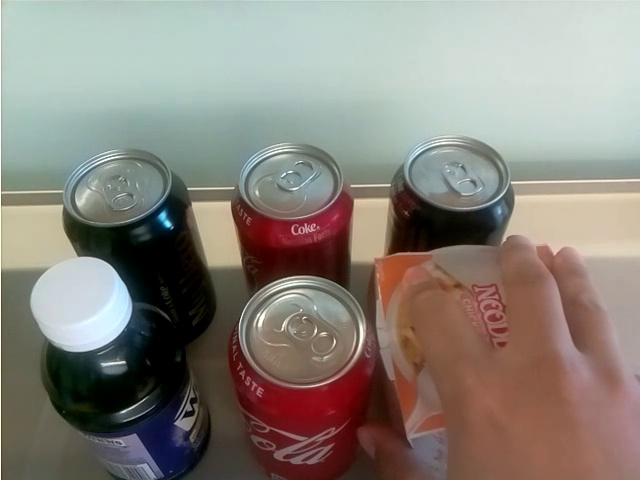cocacola: (229, 274, 373, 474), (232, 148, 353, 278)
cocacola-zero: (59, 149, 205, 255), (384, 135, 515, 245)
hand: (358, 229, 635, 480)
juice: (27, 253, 216, 480)
noodles: (370, 241, 520, 470)
